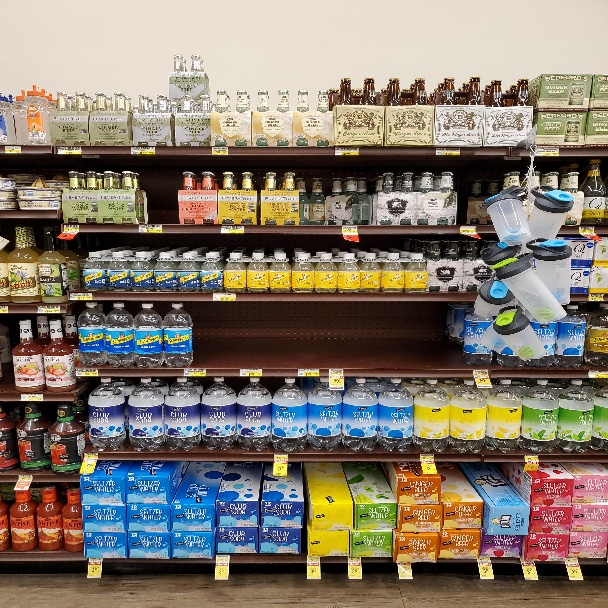All PRICE TAGS: (298, 368, 320, 377), (435, 147, 459, 155), (131, 146, 155, 154), (58, 146, 82, 154), (20, 393, 44, 401), (335, 146, 358, 154), (535, 148, 558, 156), (184, 368, 206, 376), (37, 305, 59, 313), (241, 368, 262, 376), (213, 293, 236, 300), (70, 292, 93, 299), (139, 225, 162, 232), (77, 369, 97, 377), (588, 370, 607, 378), (221, 226, 244, 232), (62, 224, 79, 232), (588, 293, 604, 301), (274, 453, 289, 461), (473, 369, 488, 377), (4, 146, 21, 153), (216, 555, 230, 563), (420, 453, 434, 461), (461, 226, 477, 233), (342, 226, 358, 233), (212, 147, 228, 154), (525, 454, 539, 462), (579, 226, 595, 233), (18, 475, 33, 482), (308, 556, 321, 564), (330, 369, 344, 376), (84, 453, 98, 460), (348, 557, 361, 564), (565, 557, 578, 564), (479, 556, 491, 562), (89, 557, 101, 562)
